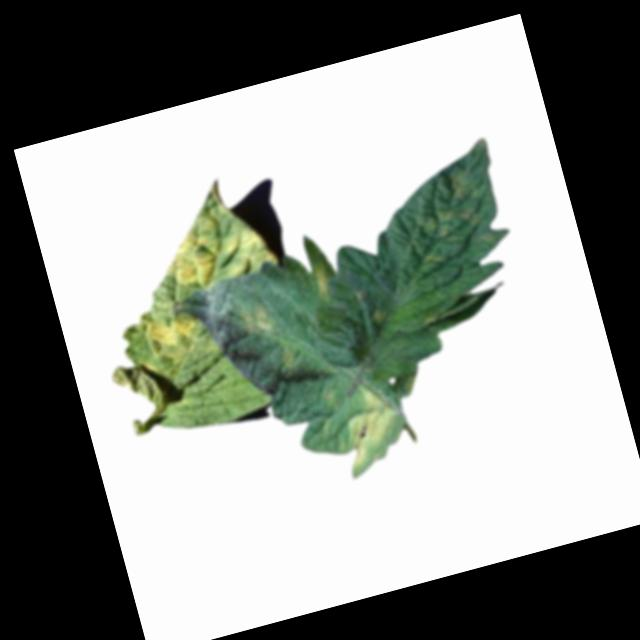Leaf_Mold: (143, 172, 281, 300), (406, 154, 507, 260), (325, 381, 412, 481), (133, 303, 208, 372), (305, 254, 338, 310), (240, 297, 276, 340)
